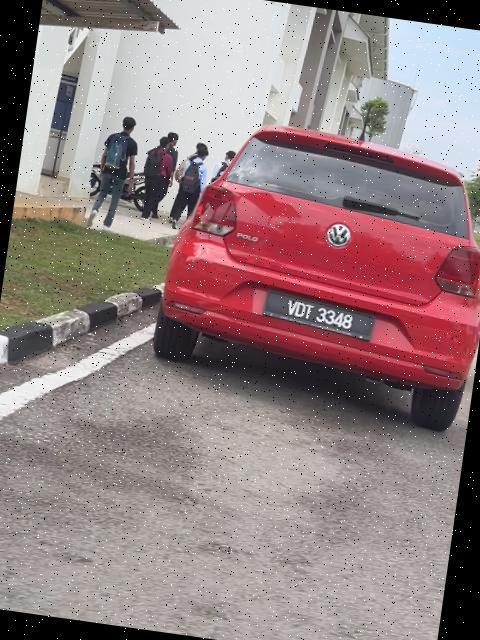License_Plate: (261, 286, 380, 343)
VDT3348: (261, 286, 380, 343)
car: (142, 107, 480, 434)
